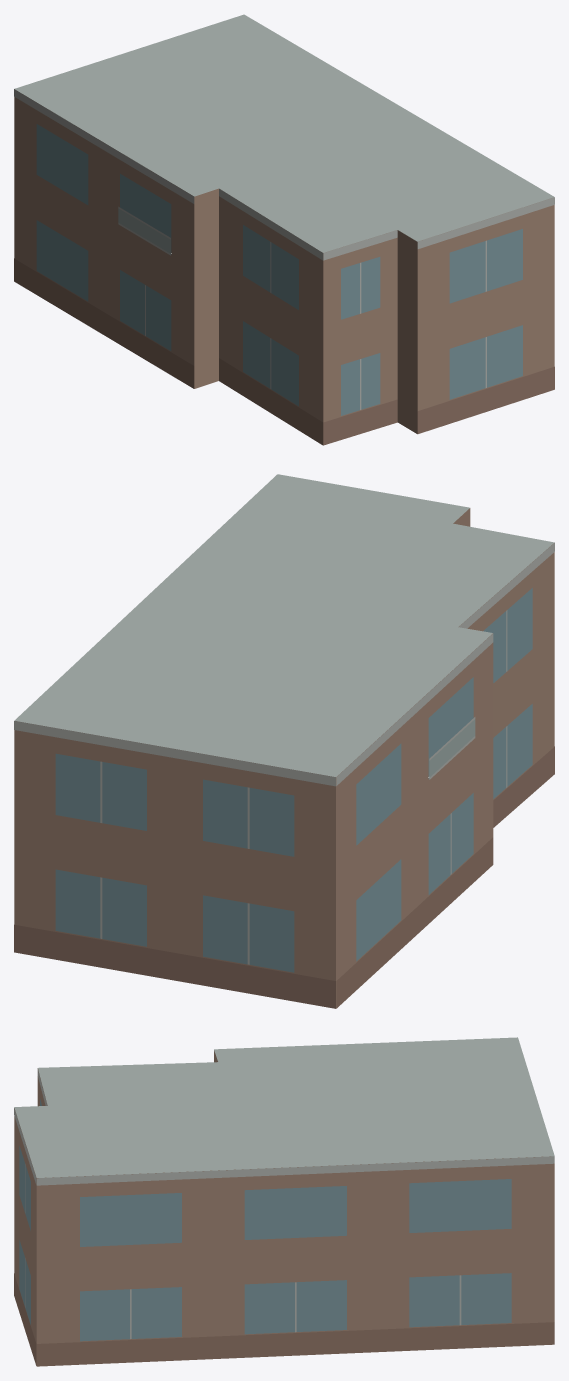
The model's file is survey-upis-32843279.glb.
The picture shows the model from 3 angles, top to bottom: view 1: azimuth 30°, elevation 25°; view 2: azimuth 150°, elevation 25°; view 3: azimuth 270°, elevation 25°; orthographic projection. The views are drawn at different scales.
Parts seen in each view (by area): view 1: survey-upis-32843279.tmp; view 2: survey-upis-32843279.tmp; view 3: survey-upis-32843279.tmp.
Boxes of the visible parts, x1,y1,x2,y2 form: survey-upis-32843279.tmp: (14, 14, 554, 445); survey-upis-32843279.tmp: (14, 474, 554, 1008); survey-upis-32843279.tmp: (14, 1037, 554, 1366).
Bounding box in the file's own units: 9.78 × 6.1 × 15.88.
